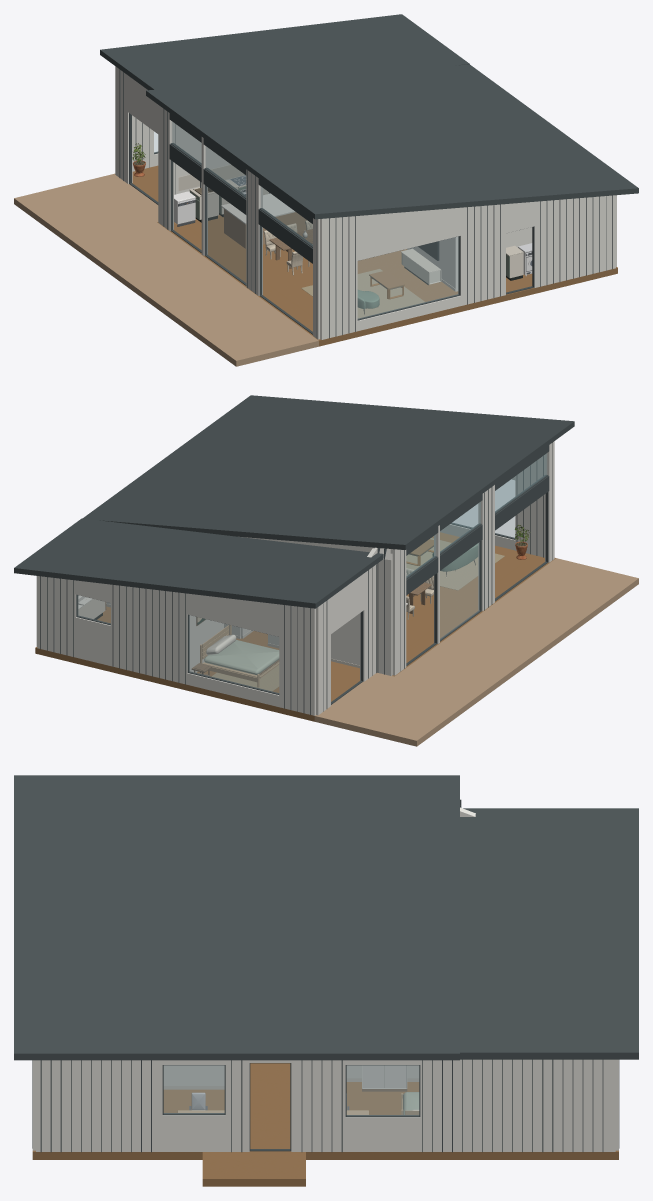
3 views of the same model, one above another, from view 1: azimuth 30°, elevation 25°; view 2: azimuth 150°, elevation 25°; view 3: azimuth 270°, elevation 25° (orthographic). The views are drawn at different scales.
Visible parts, largest first — view 1: Living wing shed roof, rear-deck, Master wing shed roof, ground/slab/0, ground/left/pier-0, ground/left/glass-1, ground/left/end, ground/left/pier-1, ground/left/header-1, ground/rear-living/glass-1, ground/slab/1, ground/rear-living/pier-1 (+24 smaller); view 2: Living wing shed roof, rear-deck, Master wing shed roof, ground/right/pier-1, ground/slab/0, ground/right/glass-1, ground/right/end, ground/right/pier-0, ground/rear-living/glass-1, ground/right/header-1, ground/slab/1, ground/left/end (+26 smaller); view 3: Living wing shed roof, Master wing shed roof, ground/front/end, ground/front/pier-0, ground/slab/0, ground/front/pier-2, ground/front/glass-2, front-porch, ground/front/glass-0, ground/front/sill-2, ground/front/sill-0, ground/front/pier-1 (+1 smaller).
Boxes of the visible parts, x1=… form: Living wing shed roof: x1=146, y1=64, x2=638, y2=219; rear-deck: x1=14, y1=178, x2=318, y2=366; Master wing shed roof: x1=100, y1=14, x2=469, y2=90; ground/slab/0: x1=132, y1=165, x2=617, y2=341; ground/left/pier-0: x1=534, y1=195, x2=615, y2=287; ground/left/glass-1: x1=358, y1=236, x2=458, y2=318; ground/left/end: x1=320, y1=216, x2=357, y2=339; ground/left/pier-1: x1=460, y1=204, x2=505, y2=305; ground/left/header-1: x1=357, y1=207, x2=460, y2=260; ground/rear-living/glass-1: x1=206, y1=186, x2=245, y2=283; ground/slab/1: x1=157, y1=222, x2=338, y2=346; ground/rear-living/pier-1: x1=246, y1=169, x2=262, y2=295; Living wing shed roof: x1=83, y1=395, x2=574, y2=549; rear-deck: x1=334, y1=558, x2=638, y2=746; Master wing shed roof: x1=14, y1=518, x2=383, y2=608; ground/right/pier-1: x1=111, y1=584, x2=187, y2=684; ground/slab/0: x1=35, y1=532, x2=533, y2=721; ground/right/glass-1: x1=189, y1=615, x2=278, y2=693; ground/right/end: x1=279, y1=604, x2=315, y2=715; ground/right/pier-0: x1=37, y1=576, x2=76, y2=657; ground/rear-living/glass-1: x1=440, y1=542, x2=479, y2=639; ground/right/header-1: x1=187, y1=593, x2=279, y2=636; ground/slab/1: x1=392, y1=555, x2=555, y2=676; ground/left/end: x1=515, y1=455, x2=544, y2=557; Living wing shed roof: x1=14, y1=775, x2=459, y2=1060; Master wing shed roof: x1=460, y1=808, x2=638, y2=1059; ground/front/end: x1=420, y1=1059, x2=615, y2=1151; ground/front/pier-0: x1=36, y1=1060, x2=162, y2=1151; ground/slab/0: x1=32, y1=1063, x2=618, y2=1159; ground/front/pier-2: x1=291, y1=1060, x2=345, y2=1151; ground/front/glass-2: x1=347, y1=1065, x2=418, y2=1115; front-porch: x1=202, y1=1152, x2=305, y2=1186; ground/front/glass-0: x1=164, y1=1065, x2=224, y2=1113; ground/front/sill-2: x1=345, y1=1117, x2=420, y2=1151; ground/front/sill-0: x1=162, y1=1115, x2=225, y2=1151; ground/front/pier-1: x1=225, y1=1060, x2=249, y2=1151.
Size of the model in its own units: 15.43 by 4.88 by 14.95.
142 materials, 18 textured.
